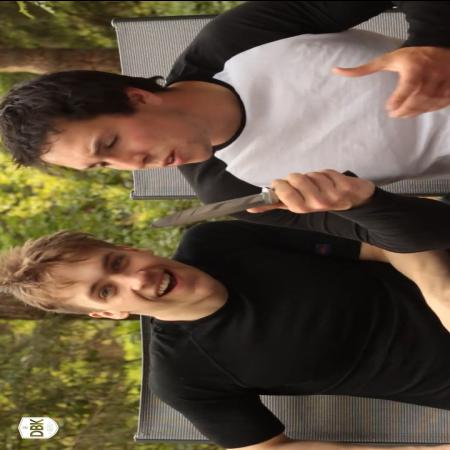long weapon: (132, 168, 336, 232)
